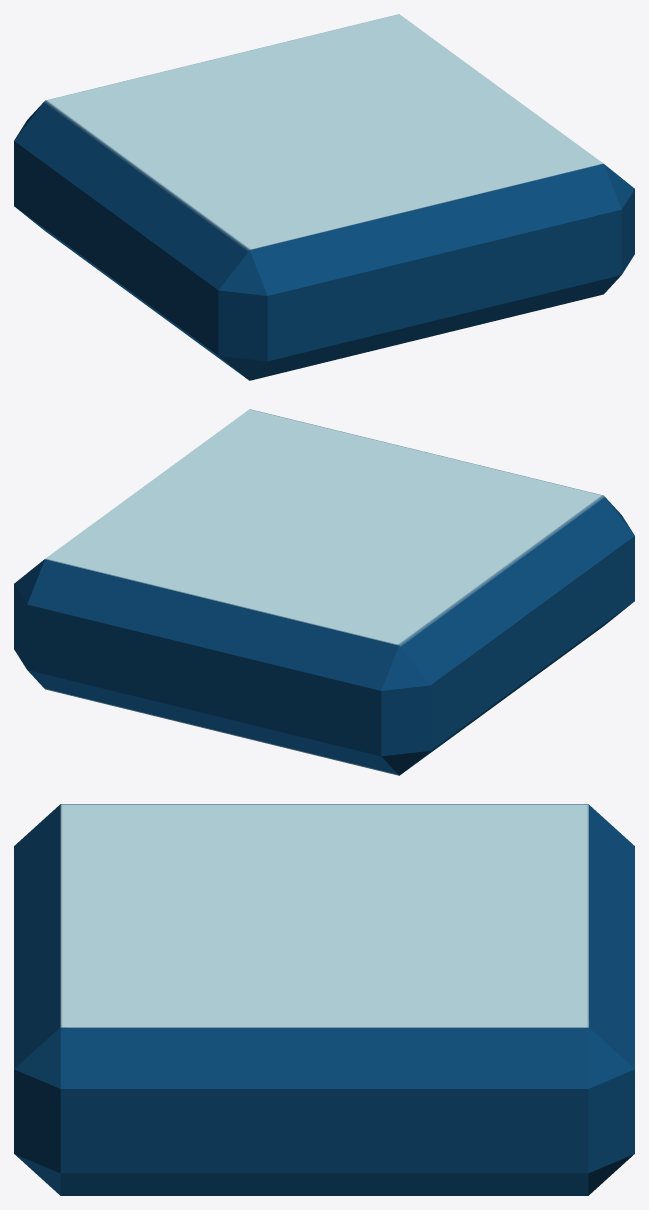
The model's file is sign_cube_normal.fbx.
3 views of the same model, one above another, from view 1: azimuth 30°, elevation 25°; view 2: azimuth 150°, elevation 25°; view 3: azimuth 270°, elevation 25° (orthographic). The views are drawn at different scales.
Visible parts, largest first — view 1: polySurface26; view 2: polySurface26; view 3: polySurface26.
Part boxes in pixels (left/top/right/bottom): polySurface26: left=14, top=14, right=634, bottom=380; polySurface26: left=14, top=409, right=634, bottom=775; polySurface26: left=14, top=804, right=634, bottom=1195.
Size of the model in its own units: 1 by 0.3 by 1.
Materials: 1 (1 with a texture image).
